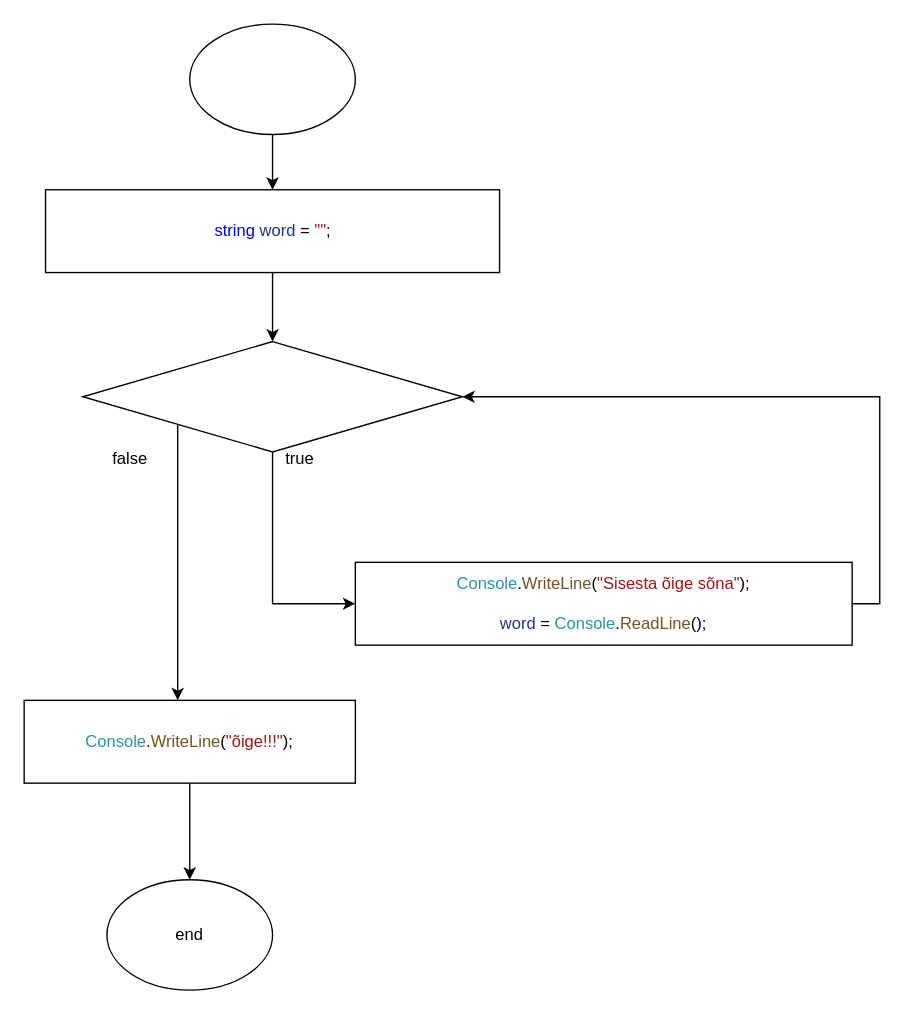
The diagram is 915 pixels wide and 1014 high, and some of its shapes have lost their labels. Each missing label, with the centre of its shape:
start: [271,79]
while ( word != "yes" ): [271,396]
